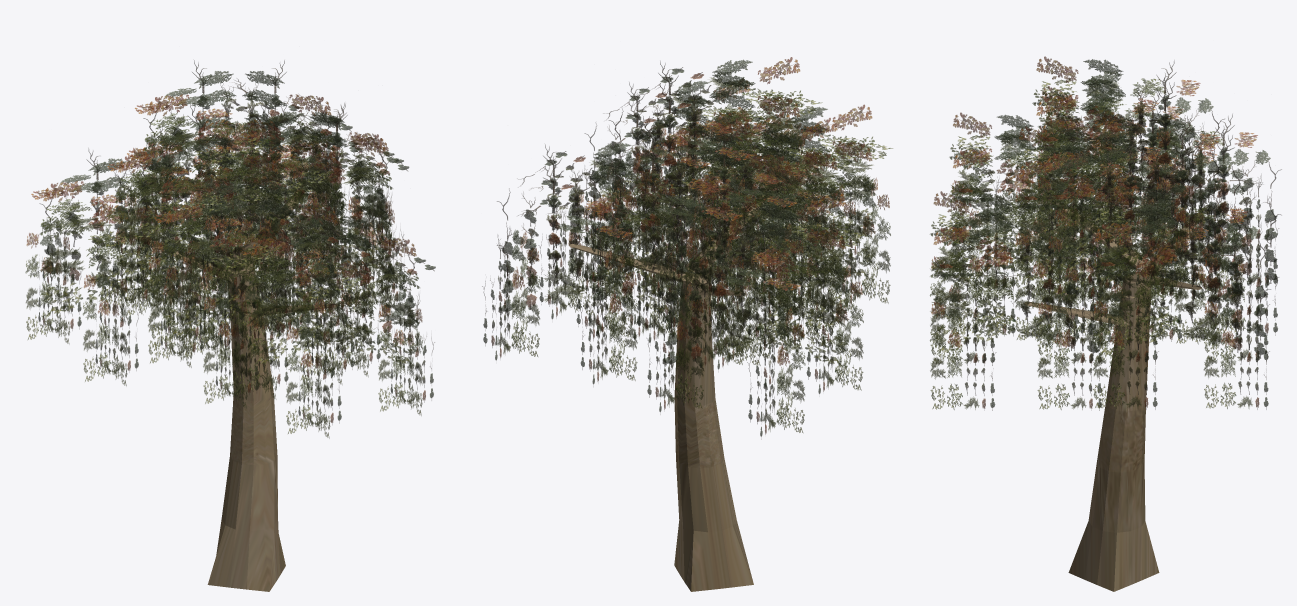
The model's file is tree.glb.
3 renders of one model, left to right at view 1: azimuth 30°, elevation 25°; view 2: azimuth 150°, elevation 25°; view 3: azimuth 270°, elevation 25°, orthographic.
Visible parts, largest first — view 1: LeafCanopy, Trunk; view 2: LeafCanopy, Trunk, Branch_0, Branch_3; view 3: LeafCanopy, Trunk, Branch_3, Branch_2, Branch_0.
Boxes of the visible parts, x1,y1,x2,y2 form: LeafCanopy: (25, 60, 435, 438); Trunk: (207, 267, 285, 591); LeafCanopy: (482, 57, 892, 436); Trunk: (674, 275, 753, 591); Branch_0: (569, 243, 707, 284); Branch_3: (686, 195, 768, 272); LeafCanopy: (930, 56, 1281, 410); Trunk: (1068, 271, 1159, 591); Branch_3: (1053, 202, 1149, 267); Branch_2: (1024, 301, 1129, 326); Branch_0: (1127, 273, 1201, 289).
Bounding box in the file's own units: 5.45 × 7.55 × 4.72.
2 materials, 2 textured.
